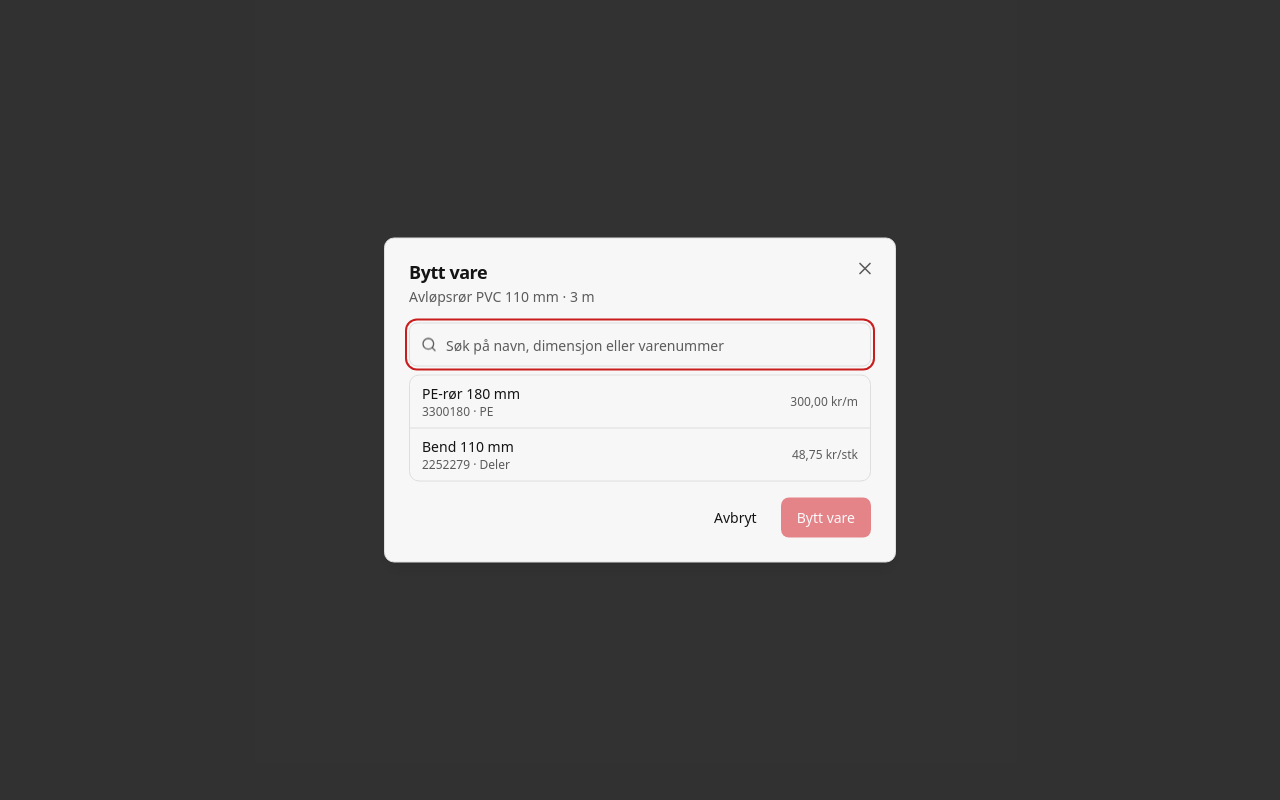
bytt vare › bestilling som ikkje er godkjend: lageret blir ikkje nemnt som trekt
Click the button "PE-rør 180 mm 3300180 · PE 300,00 kr/m". click: (471, 393)
box: left=410, top=376, right=870, bottom=428
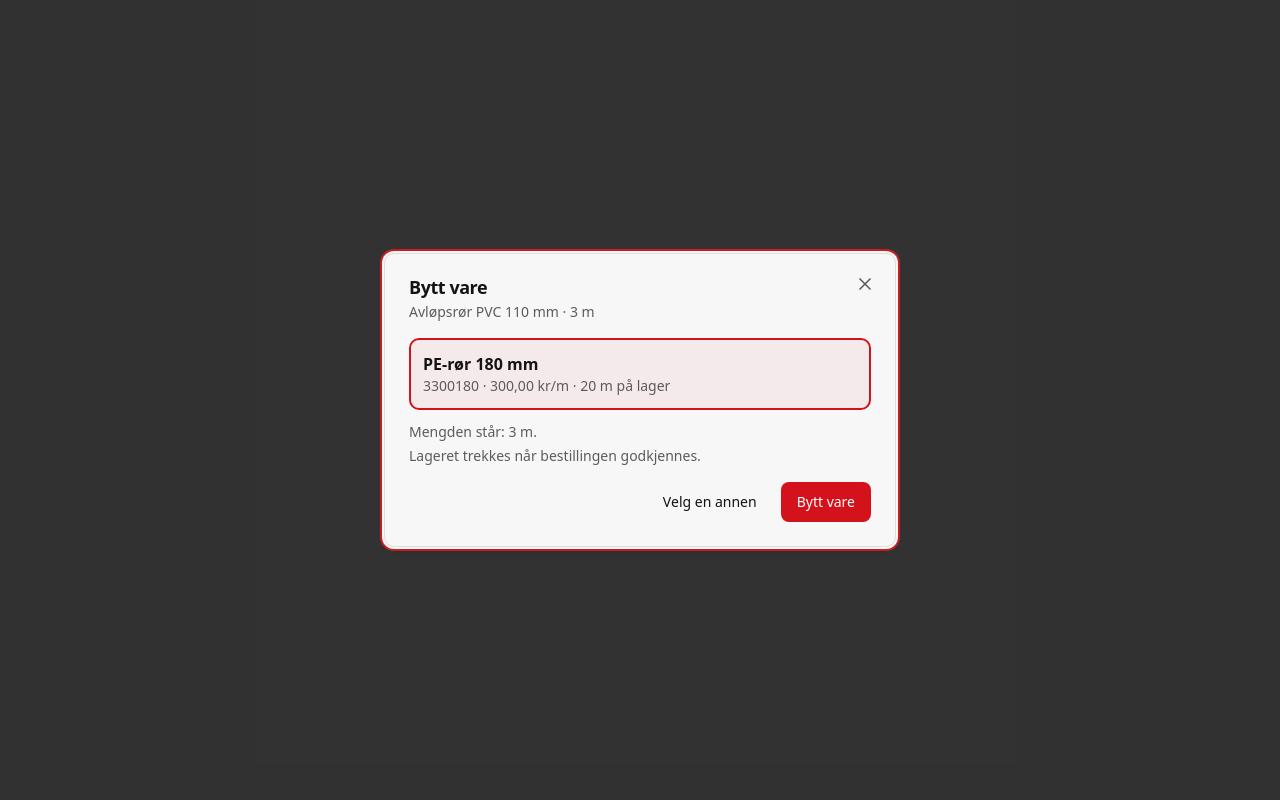
Expected: the list item "Lageret trekkes når bestillingen godkjennes." is shown, left=409, top=446, right=701, bottom=465
